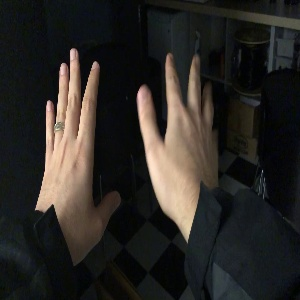hand: (41, 48, 120, 232), (136, 52, 219, 198)
